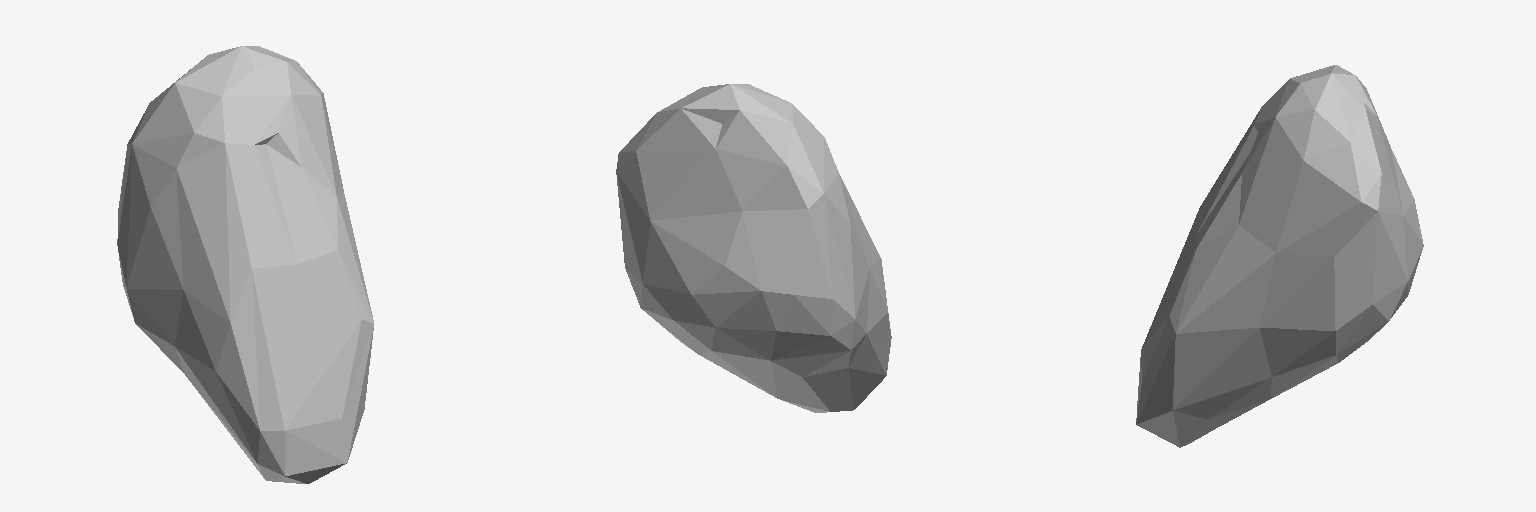
Rendered from center.obj.
The picture shows the model from 3 angles: view 1: azimuth 30°, elevation 25°; view 2: azimuth 150°, elevation 25°; view 3: azimuth 270°, elevation 25°; orthographic projection.
Visible parts, largest first — view 1: center_Brain.007; view 2: center_Brain.007; view 3: center_Brain.007.
Boxes of the visible parts, x1,y1,x2,y2 form: center_Brain.007: [117, 46, 373, 483]; center_Brain.007: [616, 84, 891, 412]; center_Brain.007: [1136, 65, 1423, 447].
Bounding box in the file's own units: 1.19 × 1.97 × 1.37.